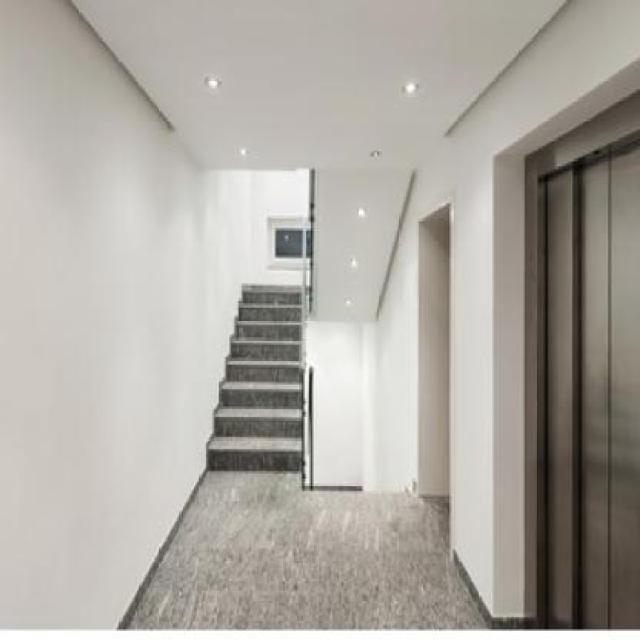stair: (210, 272, 324, 482)
